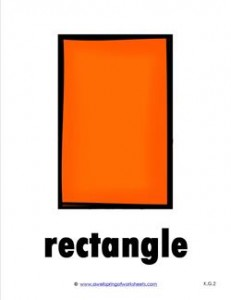rectangulo: (58, 34, 174, 210)
